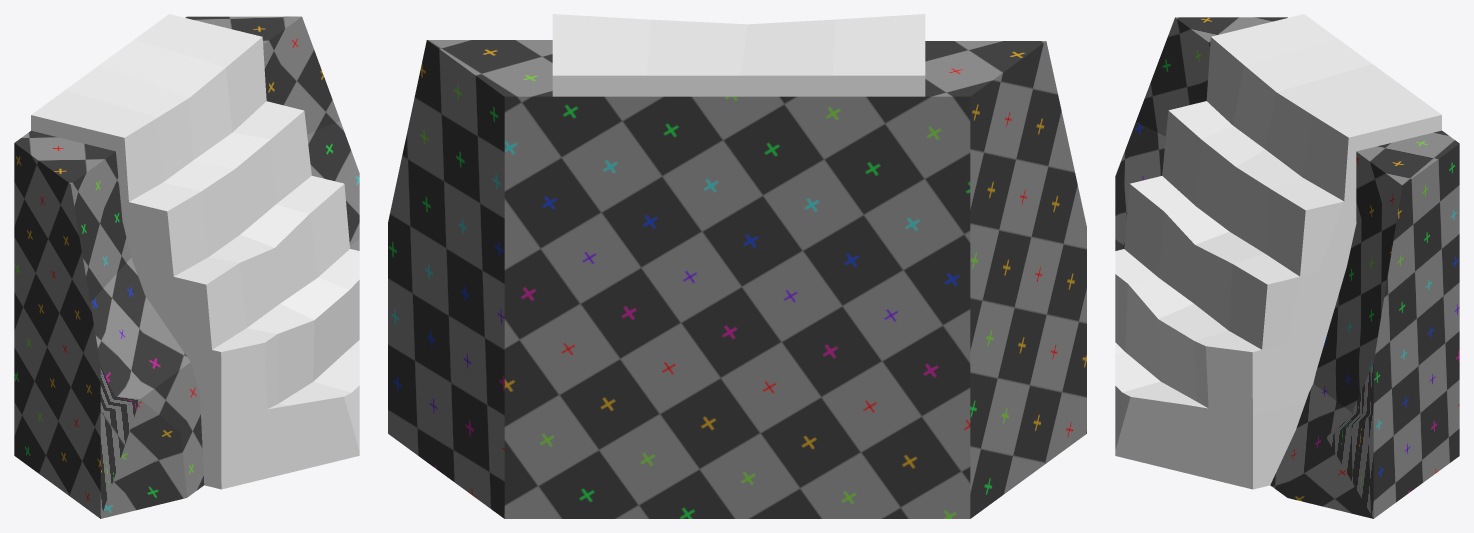
The model's file is module-corner_land_cliff_small_stairs_001.glb.
3 renders of one model, left to right at view 1: azimuth 30°, elevation 25°; view 2: azimuth 150°, elevation 25°; view 3: azimuth 270°, elevation 25°, orthographic. The views are drawn at different scales.
Visible parts, largest first — view 1: module-corner_land_cliff_small_stairs_001; view 2: module-corner_land_cliff_small_stairs_001; view 3: module-corner_land_cliff_small_stairs_001.
Part boxes in pixels (x1,y1,x2,y2): module-corner_land_cliff_small_stairs_001: (14, 14, 359, 518); module-corner_land_cliff_small_stairs_001: (388, 14, 1086, 518); module-corner_land_cliff_small_stairs_001: (1115, 14, 1459, 518).
Size of the model in its own units: 0.6495 by 0.525 by 0.5.
Materials: 2 (1 with a texture image).
